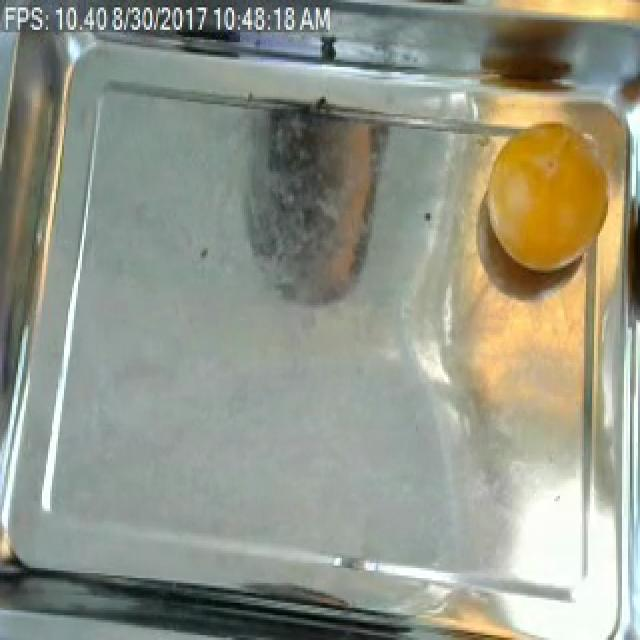Fruit: (478, 114, 622, 275), (468, 0, 640, 35)
